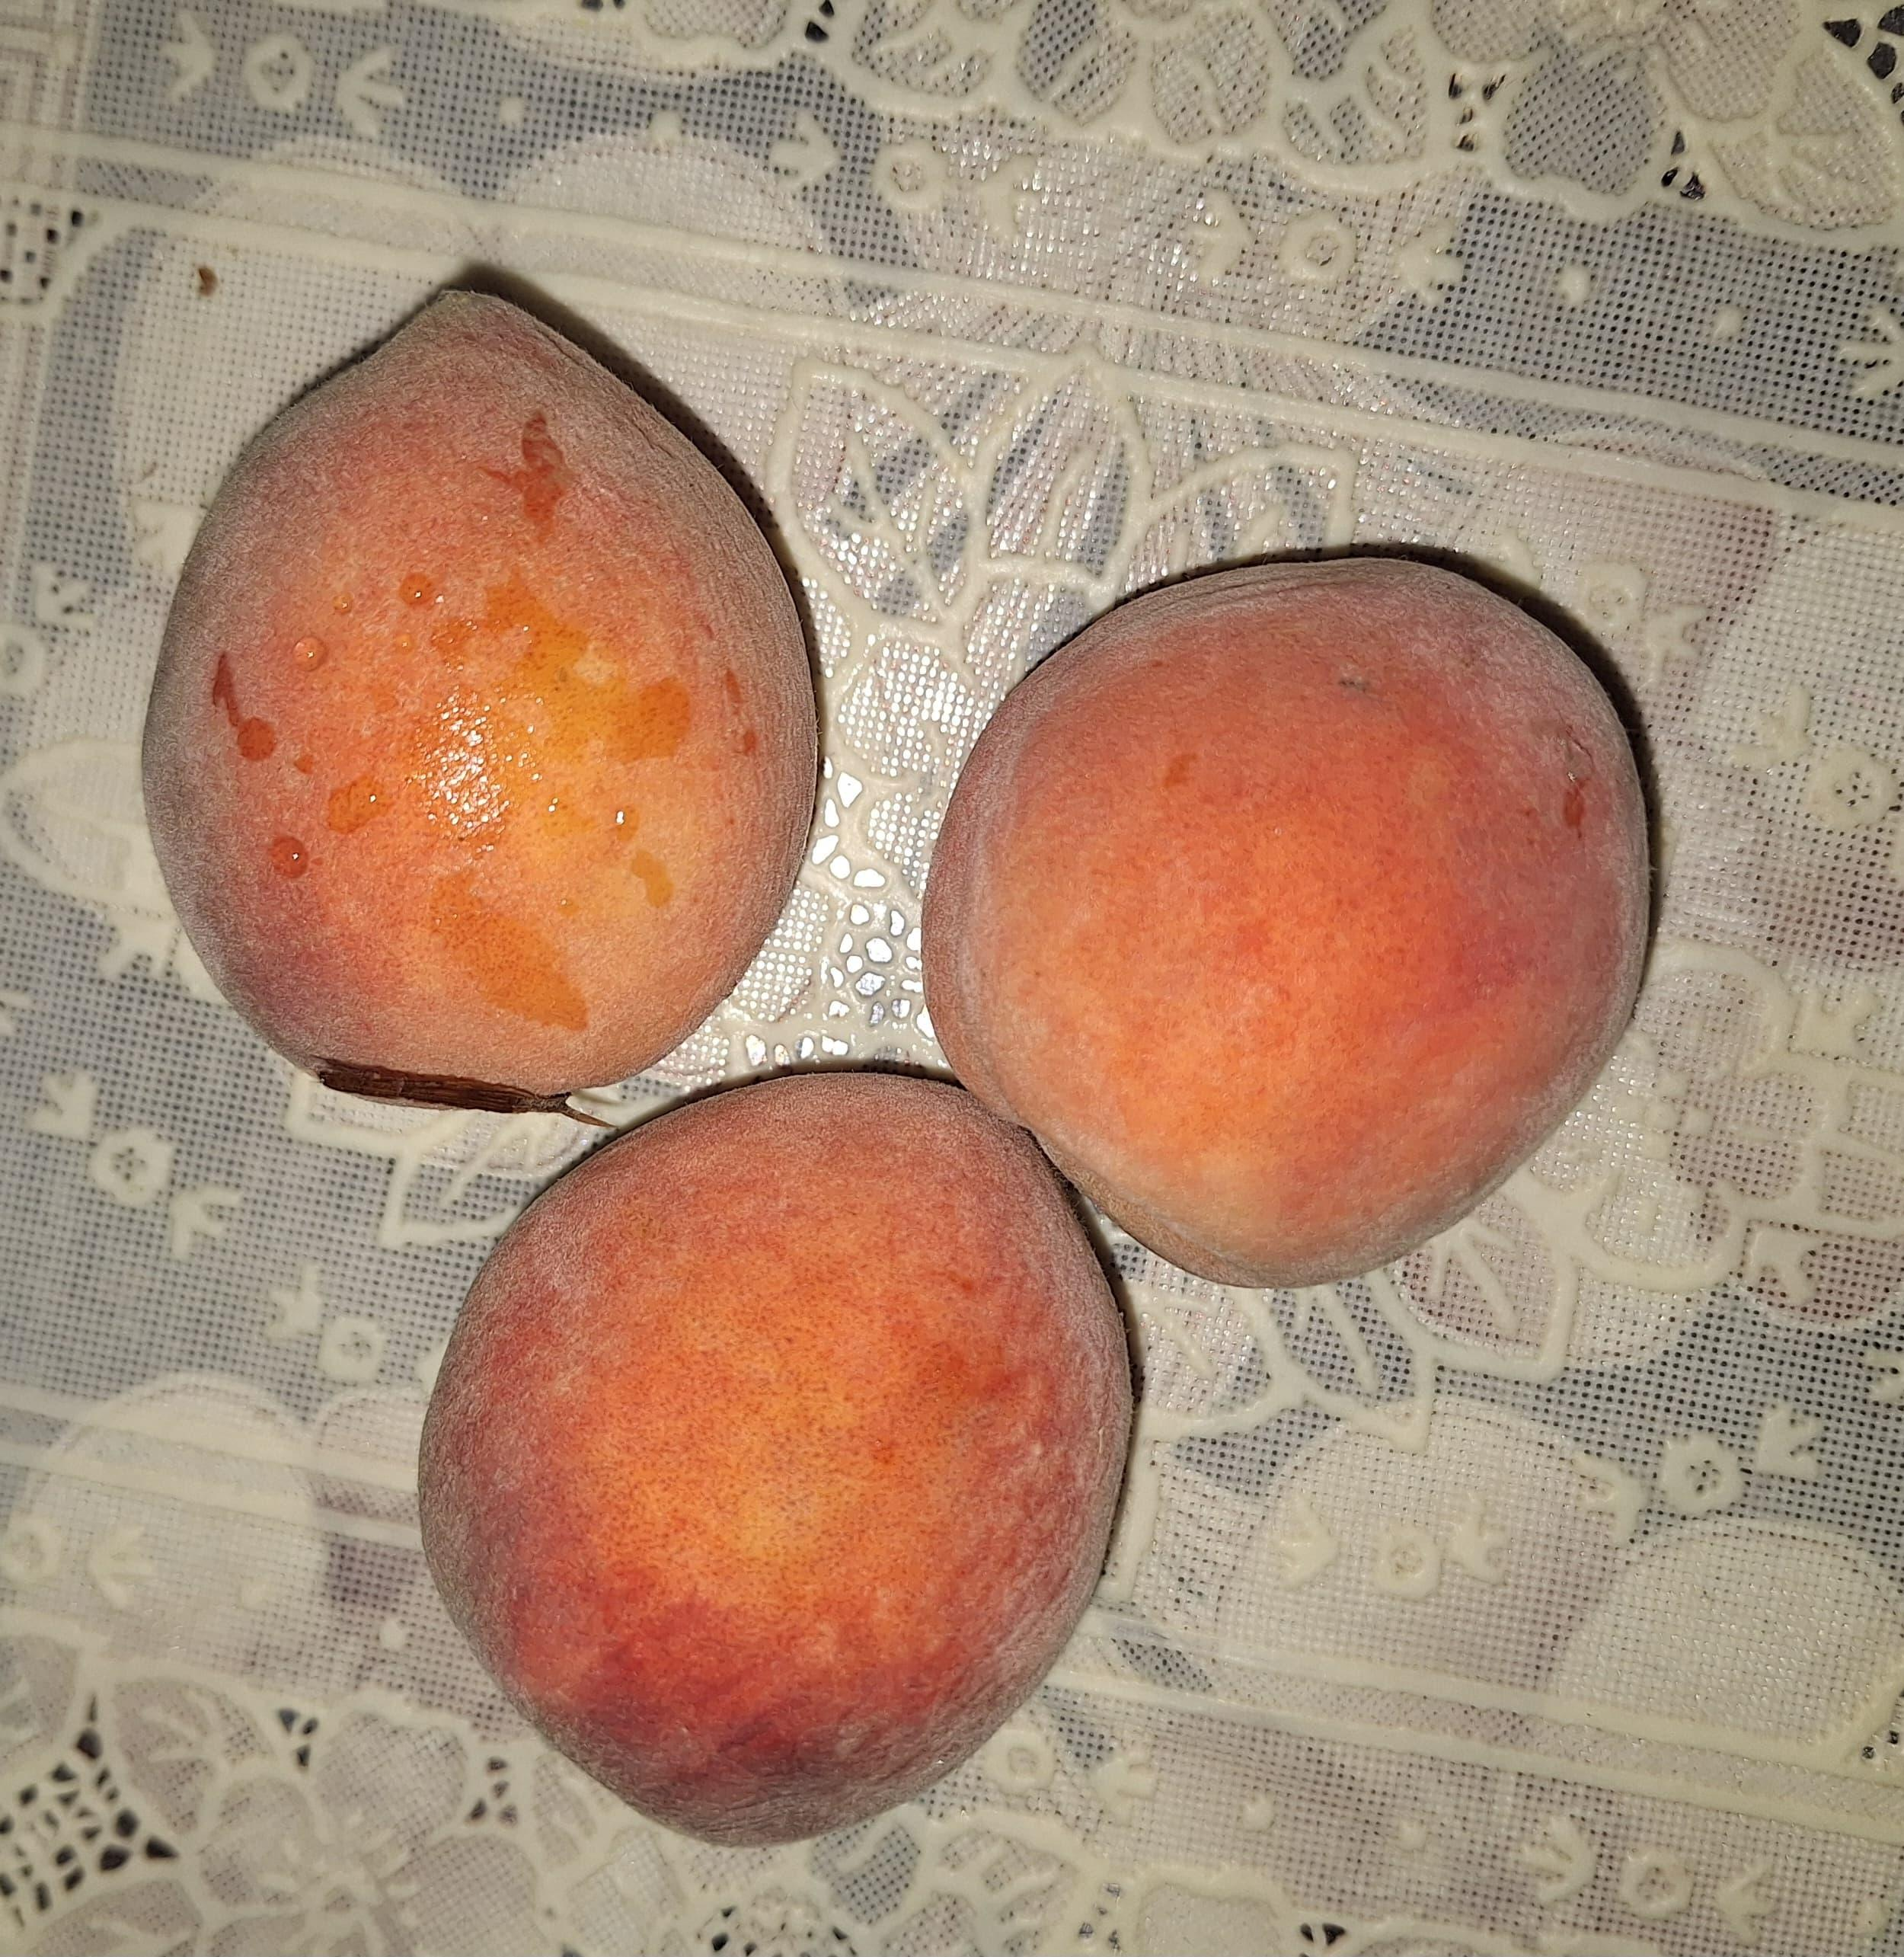non-mango: (414, 1062, 1137, 1850), (136, 285, 821, 1111), (917, 547, 1654, 1291)
